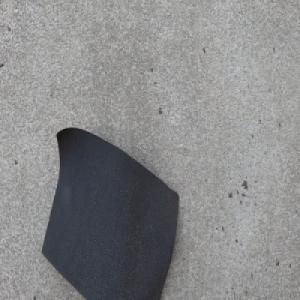PaintChip: (40, 126, 179, 300)
